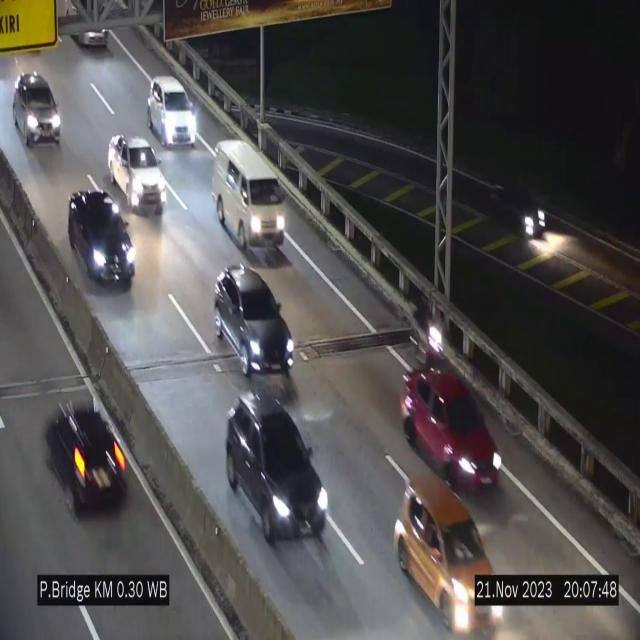Car: (394, 476, 502, 635), (226, 388, 329, 553), (400, 361, 504, 488), (48, 379, 136, 512), (214, 265, 294, 379), (214, 140, 286, 265), (68, 190, 134, 288), (108, 134, 166, 215), (485, 176, 551, 247), (13, 73, 62, 149), (148, 76, 198, 145)
Motorcycle: (412, 292, 444, 362)
